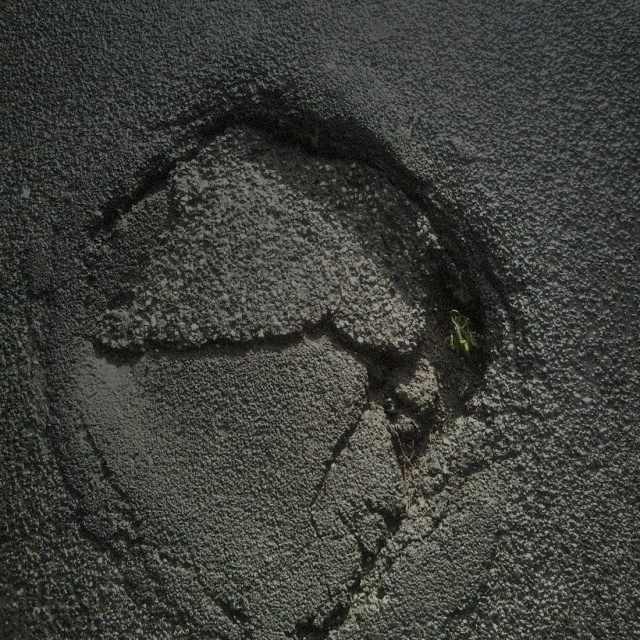pothole: (80, 86, 513, 596)
